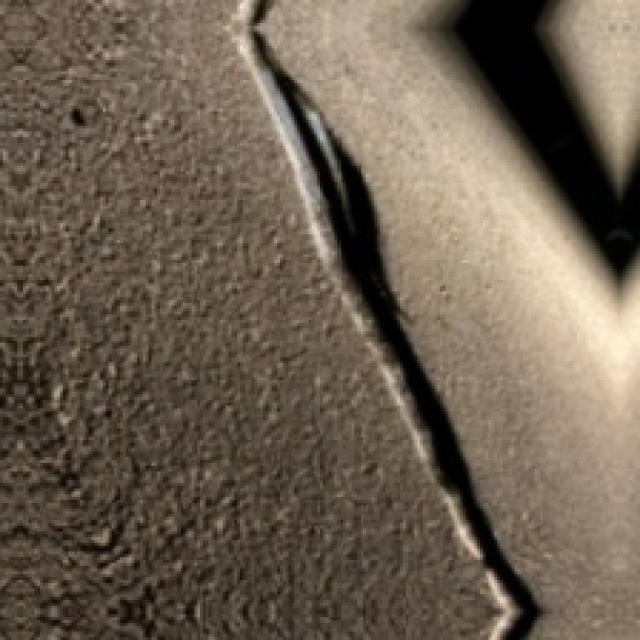reticulated python: (234, 0, 540, 639)
